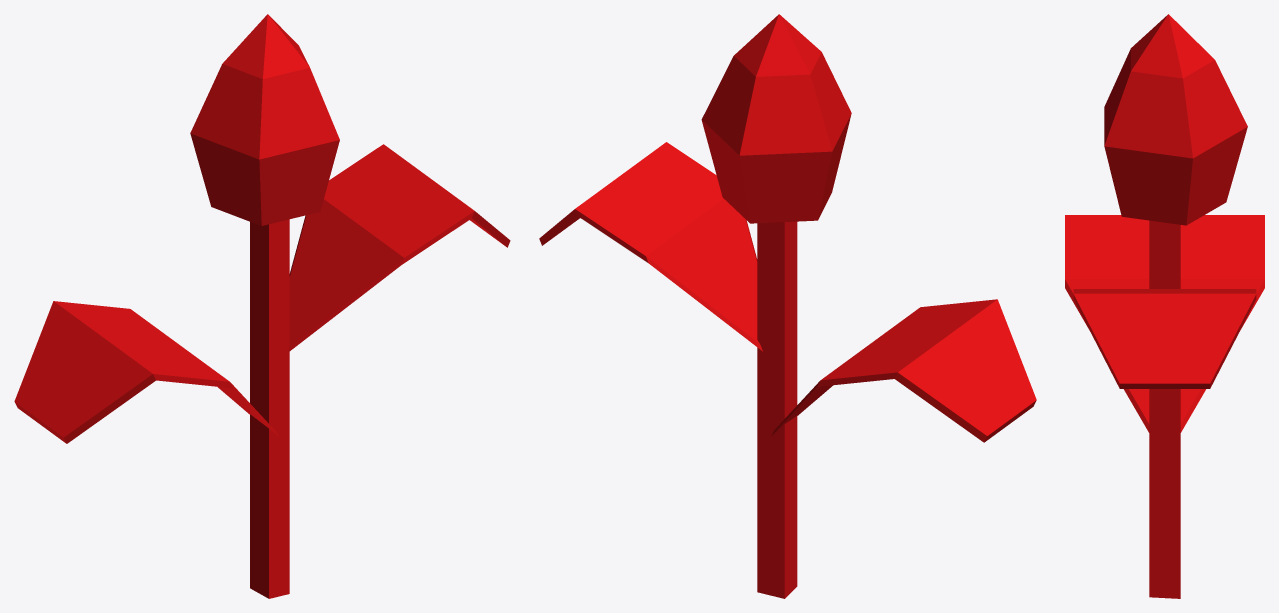
File: Flower_3_Snow.glb
3 renders of one model, left to right at view 1: azimuth 30°, elevation 25°; view 2: azimuth 150°, elevation 25°; view 3: azimuth 270°, elevation 25°, orthographic.
Visible parts, largest first — view 1: Flower_3_Snow.001; view 2: Flower_3_Snow.001; view 3: Flower_3_Snow.001.
Boxes of the visible parts, <box> form: Flower_3_Snow.001: <box>14,14,510,598</box>; Flower_3_Snow.001: <box>539,14,1036,598</box>; Flower_3_Snow.001: <box>1065,14,1264,598</box>.
Size of the model in its own units: 0.6189 by 0.7587 by 0.2379.
